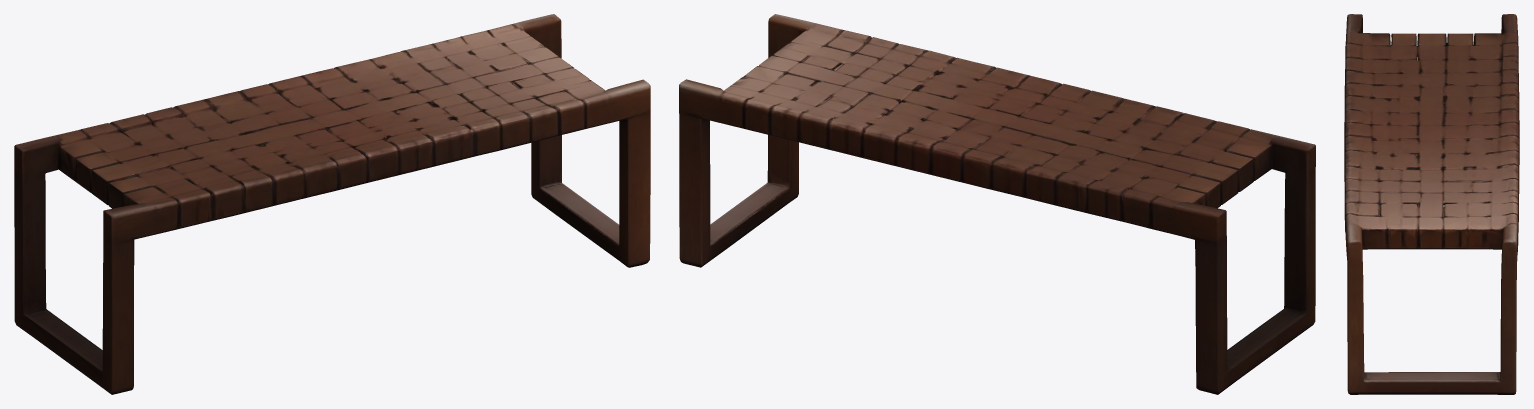
3 renders of one model, left to right at view 1: azimuth 30°, elevation 25°; view 2: azimuth 150°, elevation 25°; view 3: azimuth 270°, elevation 25°, orthographic. The views are drawn at different scales.
Parts seen in each view (by area): view 1: geometry_0; view 2: geometry_0; view 3: geometry_0.
Part boxes in pixels (x1,y1,x2,y2): geometry_0: [14, 14, 650, 394]; geometry_0: [679, 14, 1315, 394]; geometry_0: [1344, 14, 1519, 394].
Size of the model in its own units: 1 by 0.322 by 0.326.
Materials: 1 (1 with a texture image).
